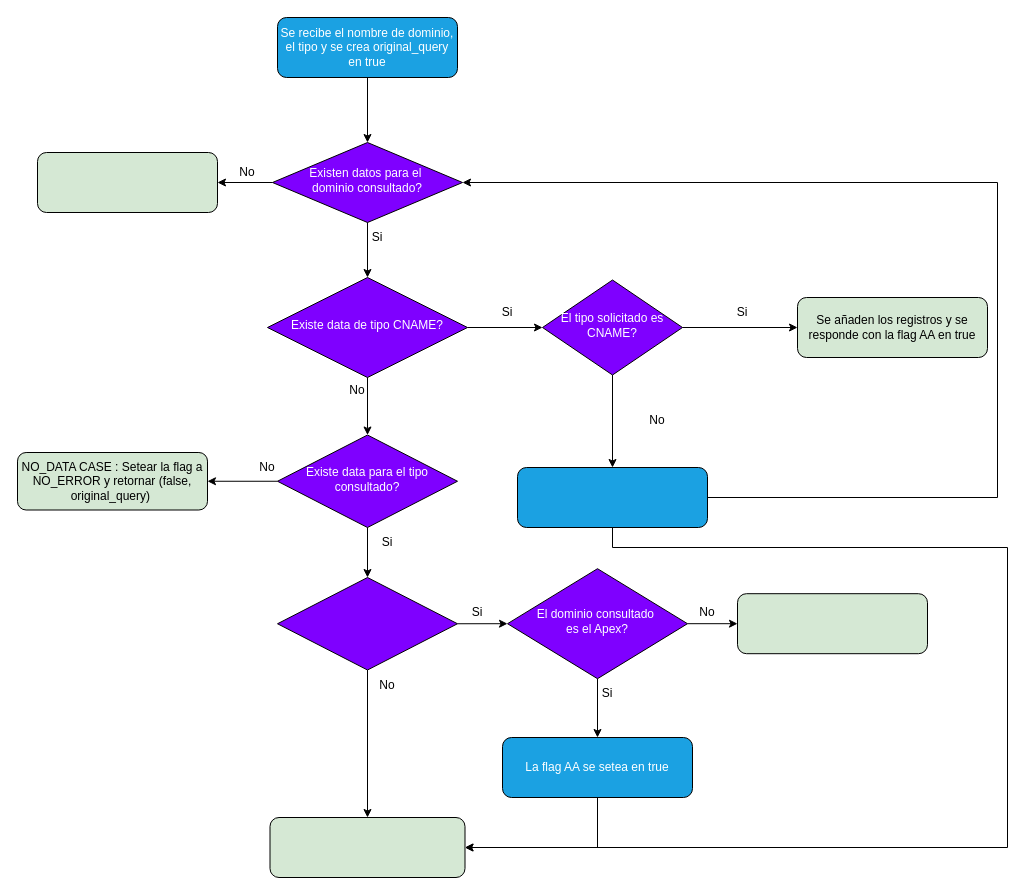
Image size: 1033x895. Some labels were removed from this diagram. The centre of each missing label's shape, as x and y in pixels:
"El tipo consultado es NS?" goes at [367,623].
"La flag AA se setea en false y se retorna (false, original_query)" goes at [832,623].
"Se añaden las respuestas y se retorna (true, original_query)" goes at [367,847].
"Se añaden los registros CNAME y se setea original_query en false" goes at [612,497].
"Se retorna (false, true), es decir, no hubo respuesta" goes at [127,182].
